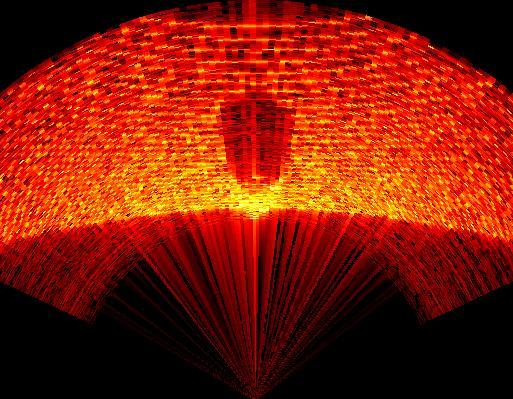box_crate: (216, 92, 297, 222)
